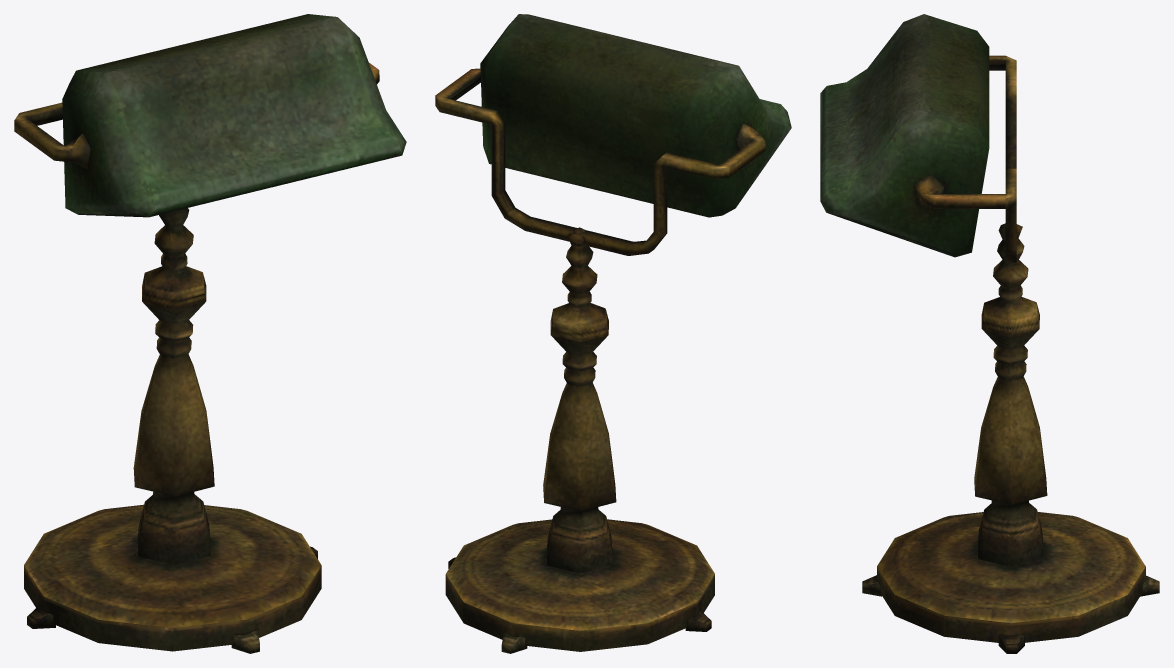
The model's file is Hotel Lamp.obj.
3 renders of one model, left to right at view 1: azimuth 30°, elevation 25°; view 2: azimuth 150°, elevation 25°; view 3: azimuth 270°, elevation 25°, orthographic. The views are drawn at different scales.
Visible parts, largest first — view 1: Hotel_Lamp; view 2: Hotel_Lamp; view 3: Hotel_Lamp.
Boxes of the visible parts, x1,y1,x2,y2 form: Hotel_Lamp: (14,14,406,653); Hotel_Lamp: (435,14,791,653); Hotel_Lamp: (820,14,1159,653).
Size of the model in its own units: 22.62 by 38.69 by 22.62.
Materials: 1 (1 with a texture image).
